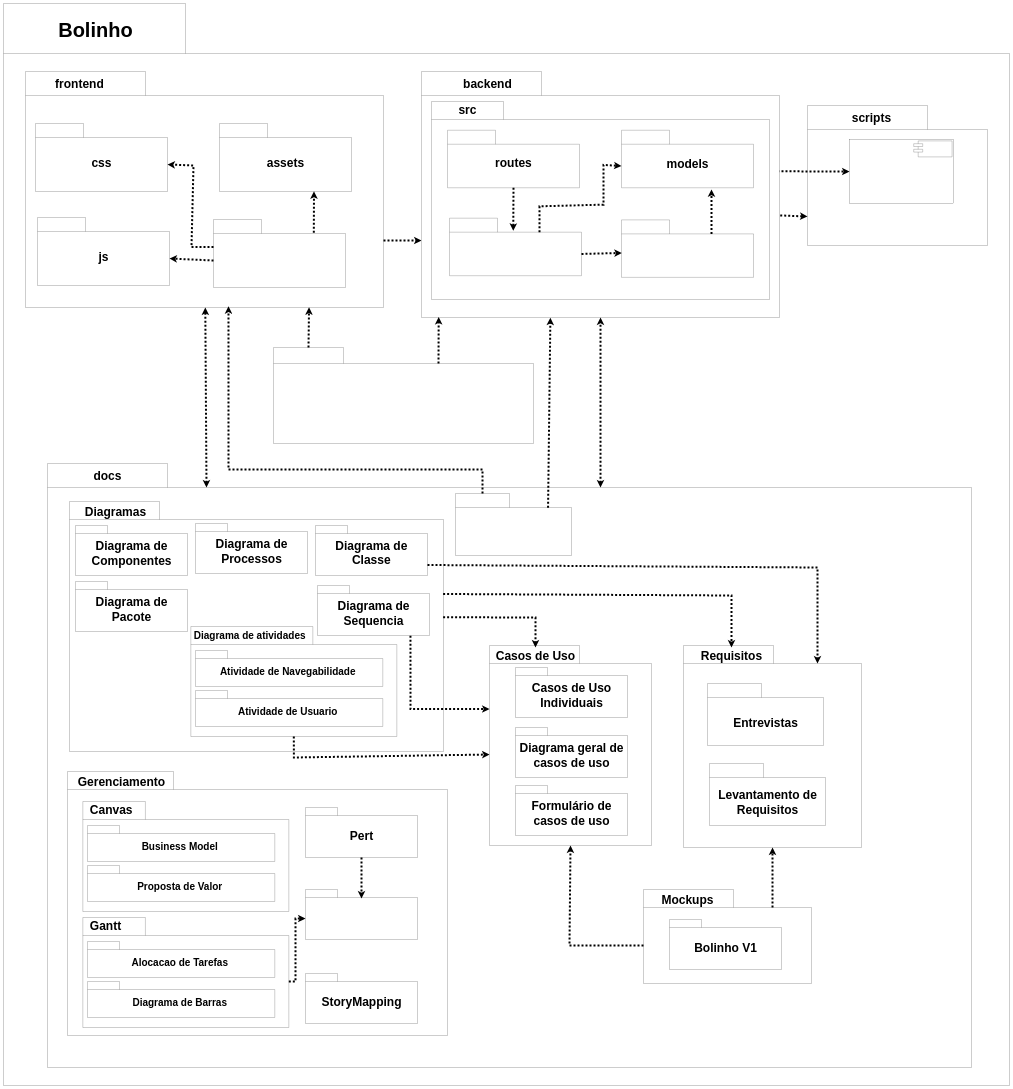
This 1013x1089 diagram has some shape labels left out. Each missing label, with the centre of its shape:
"Configuracao" goes at (x=513, y=524).
"controllers" goes at (x=515, y=247).
"database.sql" goes at (x=901, y=171).
"pages" goes at (x=279, y=253).
"services" goes at (x=687, y=248).
"Tabela de Tarefas" goes at (x=361, y=914).
"tests" goes at (x=403, y=395).
